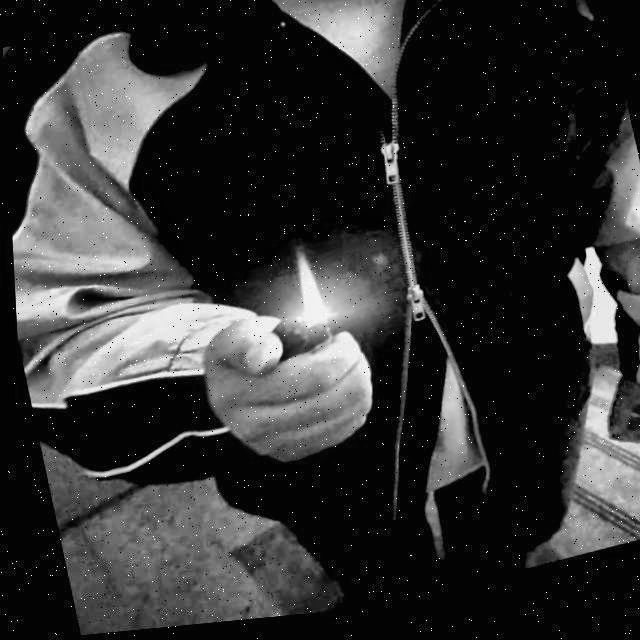Fire: (286, 252, 326, 330)
